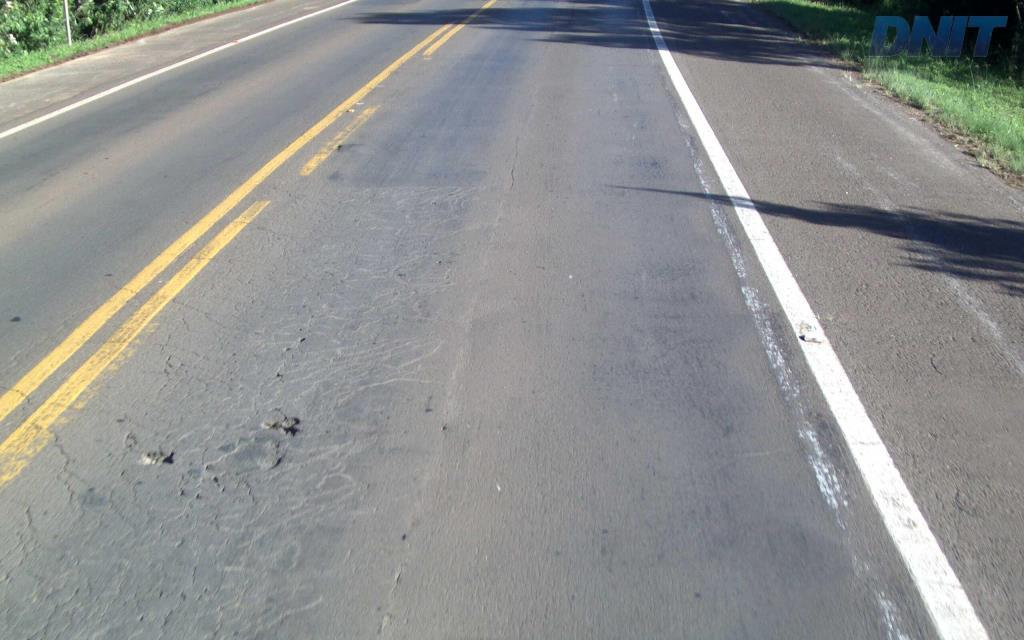pothole: (250, 437, 287, 475), (257, 413, 306, 439), (132, 442, 178, 467)
